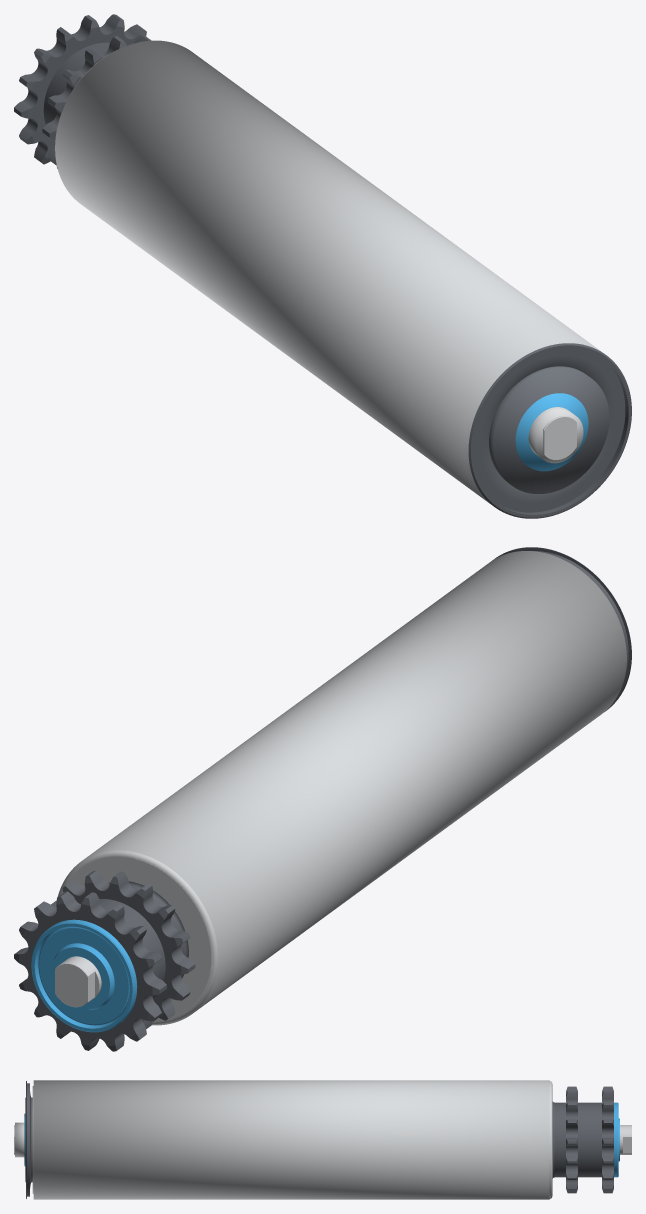
The model's file is MOLTECH_3800_LIGHT_AR_v7.glb.
The picture shows the model from 3 angles, top to bottom: view 1: azimuth 30°, elevation 25°; view 2: azimuth 150°, elevation 25°; view 3: azimuth 270°, elevation 25°; orthographic projection. The views are drawn at different scales.
Parts seen in each view (by area): view 1: Palast__zart_belso_test, Fekete__eredeti_lanckerekek, rear_black_internal_closure, rear_blue_internal_closure, silver_original, rear_silver_internal_core; view 2: Palast__zart_belso_test, Fekete__eredeti_lanckerekek, silver_original, Kek__frikcios_tarcsa; view 3: Palast__zart_belso_test, Fekete__eredeti_lanckerekek, silver_original, Kek__frikcios_tarcsa, rear_silver_internal_core, rear_black_internal_closure, rear_silver_end_closure.
Part boxes in pixels (x1,y1,x2,y2): Palast__zart_belso_test: (55,40,602,504); Fekete__eredeti_lanckerekek: (14,14,631,518); rear_black_internal_closure: (489,366,609,493); rear_blue_internal_closure: (515,393,588,471); silver_original: (55,50,576,460); rear_silver_internal_core: (528,407,583,463); Palast__zart_belso_test: (57,551,626,1025); Fekete__eredeti_lanckerekek: (14,547,631,1051); silver_original: (55,850,217,1024); Kek__frikcios_tarcsa: (31,919,137,1032); Palast__zart_belso_test: (33,1080,549,1199); Fekete__eredeti_lanckerekek: (26,1081,613,1198); silver_original: (14,1081,631,1198); Kek__frikcios_tarcsa: (614,1102,619,1177); rear_silver_internal_core: (15,1122,24,1157); rear_black_internal_closure: (25,1097,32,1182); rear_silver_end_closure: (32,1086,33,1193).
Bounding box in the file's own units: 0.0579 × 0.0579 × 0.3.
